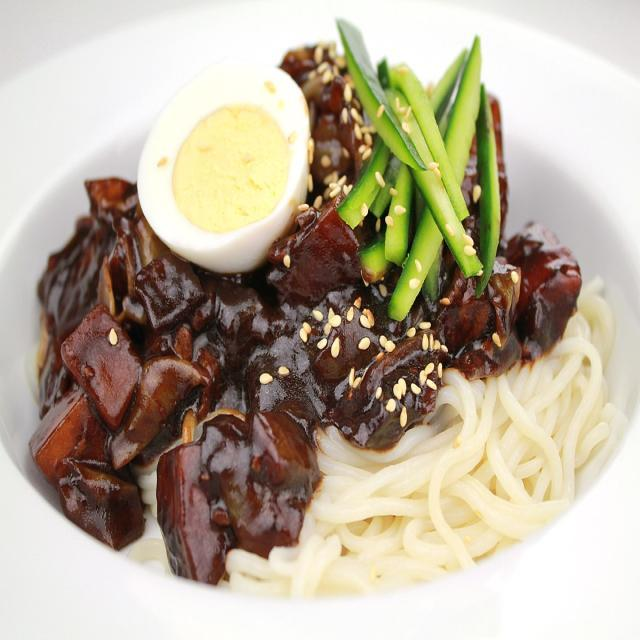cac loai rau cu: (340, 0, 498, 318), (72, 314, 199, 440), (155, 443, 265, 569), (353, 320, 427, 443), (497, 228, 564, 335), (45, 384, 94, 478), (84, 170, 133, 246)
mi jajangmyeon: (319, 362, 516, 583), (500, 308, 628, 515), (235, 511, 349, 614)
mi tuong den Jajangmyeon: (31, 30, 611, 581)
sot tuong den: (43, 262, 295, 541), (248, 272, 559, 429)
trung: (132, 64, 315, 265)
